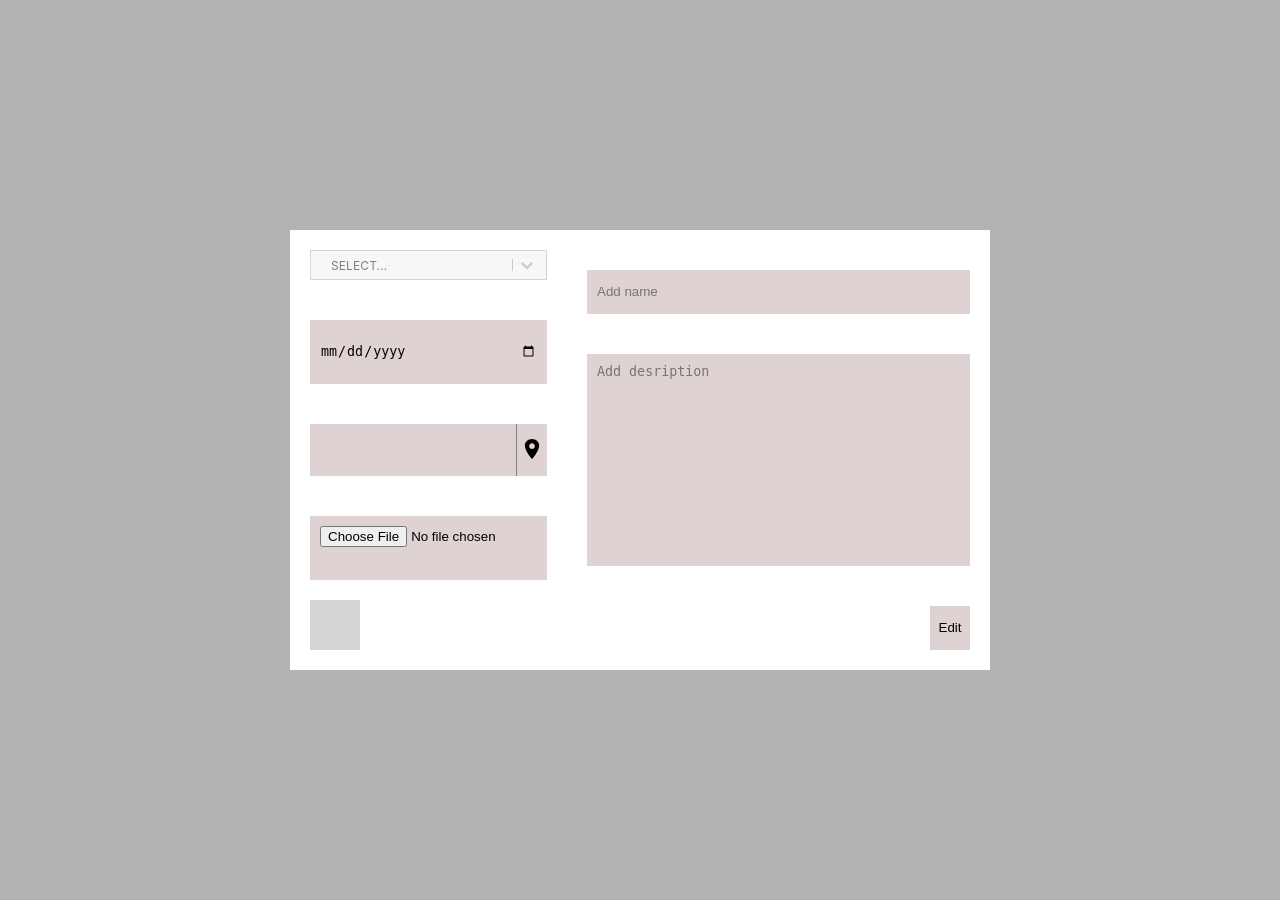
Test: Edit card from tests › Open map
Click the button with test id "button".
click(532, 450)  # box [517, 424, 547, 476]
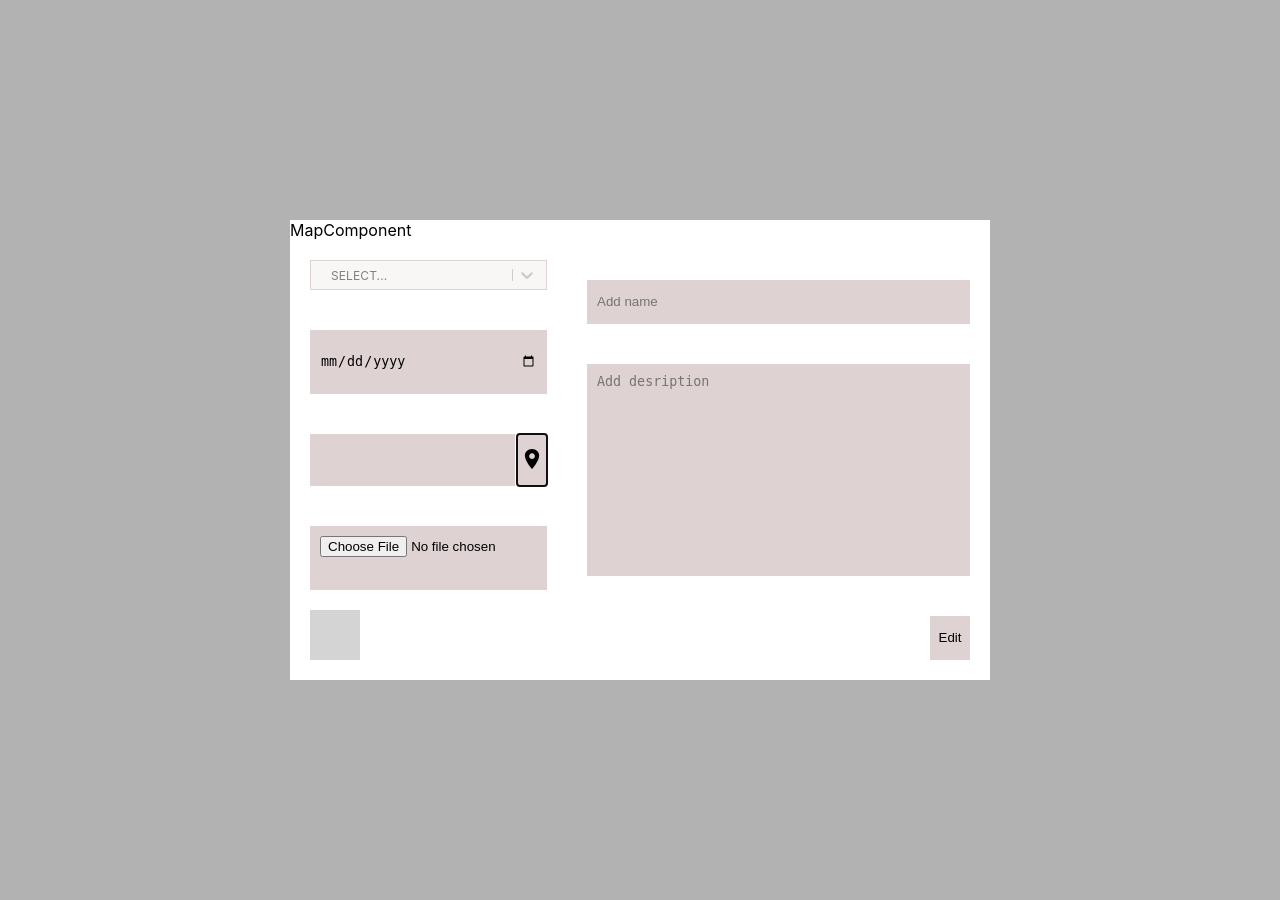
Check: the text "MapComponent Select... Edit" is shown, box [290, 220, 990, 680]
